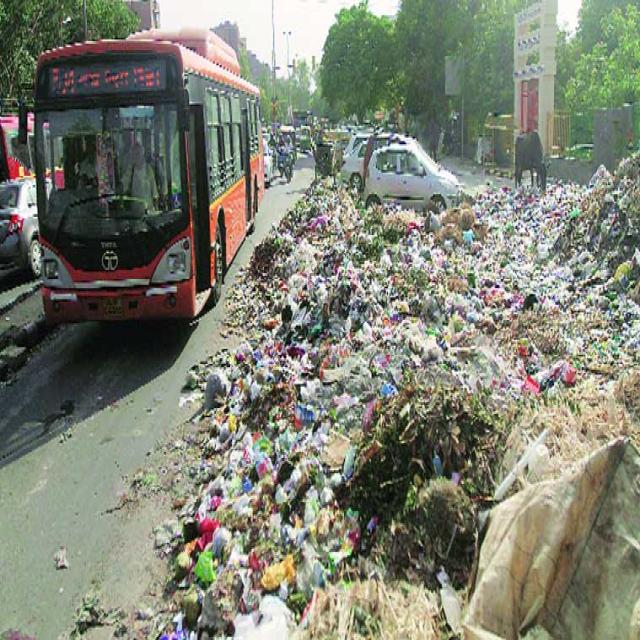garbage: (173, 173, 640, 640)
